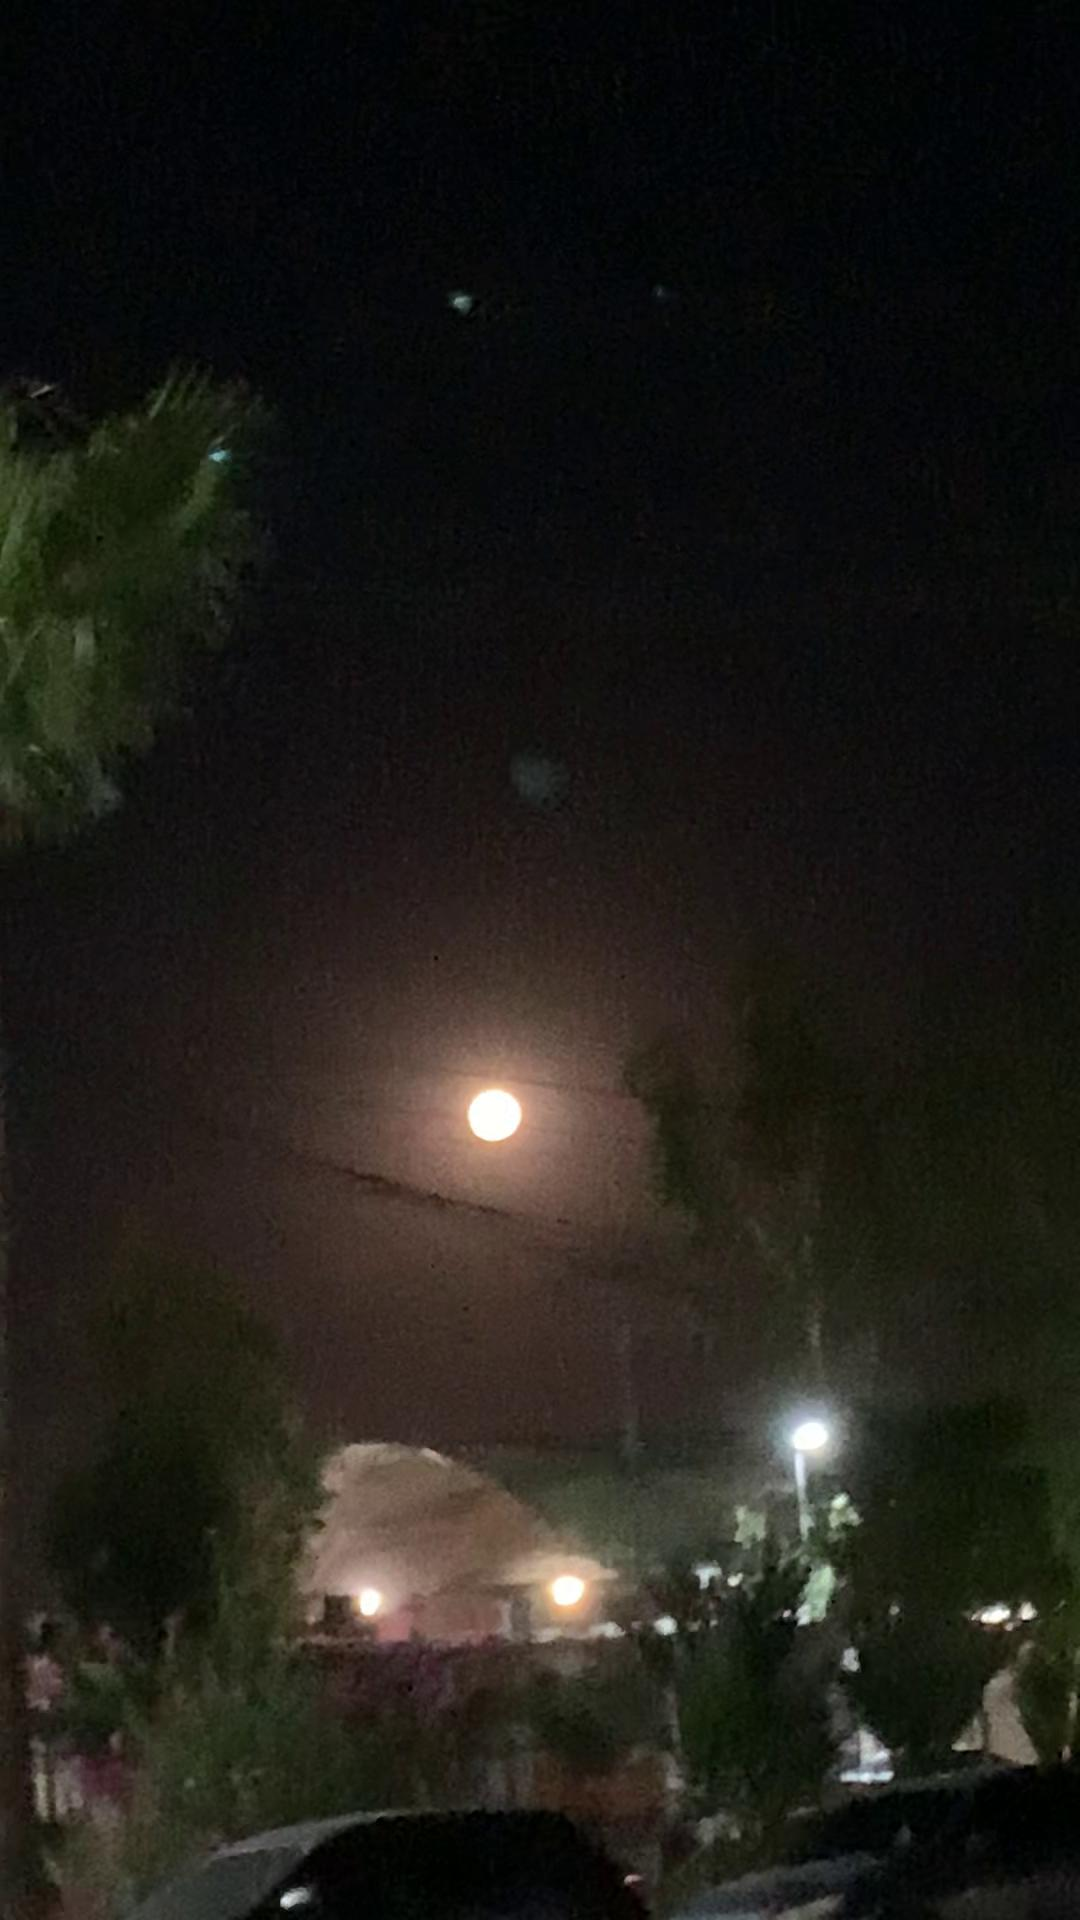moon: (450, 1102, 558, 1197)
